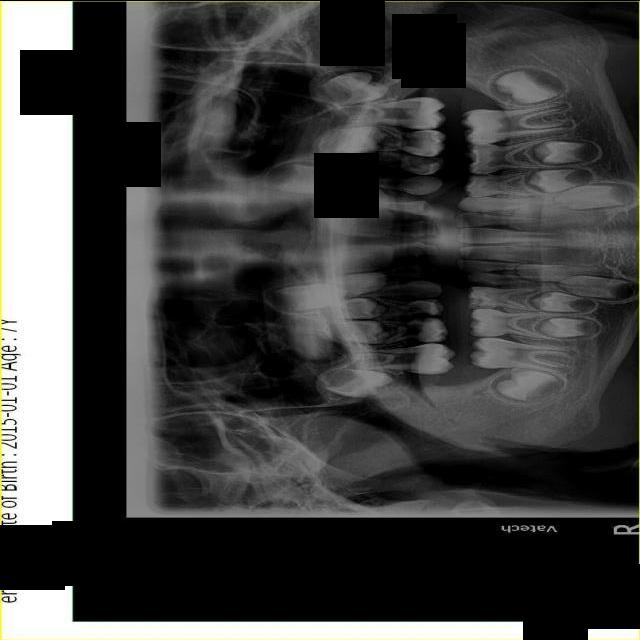Sterngold Implant: (470, 297, 493, 309), (409, 156, 441, 163), (470, 278, 496, 286), (408, 310, 438, 315), (415, 317, 435, 323), (470, 173, 489, 178), (475, 211, 486, 216), (475, 209, 485, 212)
